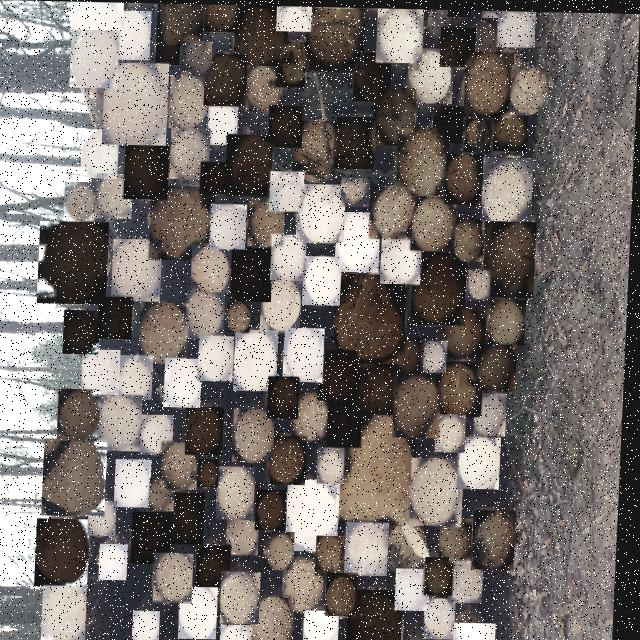wood-log: (342, 406, 422, 523), (336, 272, 410, 362), (39, 221, 111, 305), (103, 62, 170, 145), (46, 438, 112, 516), (151, 185, 218, 260), (413, 249, 470, 323), (485, 219, 539, 296), (290, 477, 345, 550), (306, 7, 366, 72), (40, 518, 95, 587), (414, 456, 468, 524), (398, 126, 451, 194), (234, 4, 289, 67), (464, 49, 515, 116), (484, 155, 535, 219), (114, 238, 165, 301), (396, 371, 445, 436), (142, 302, 192, 363), (298, 183, 348, 244), (226, 134, 275, 196), (352, 588, 409, 640), (70, 30, 120, 89), (337, 210, 383, 271), (237, 328, 282, 390), (408, 46, 455, 102), (477, 508, 521, 567), (376, 7, 424, 61), (441, 359, 487, 415), (101, 394, 146, 451), (374, 86, 418, 144), (47, 585, 93, 640), (125, 144, 171, 199), (294, 119, 340, 174), (413, 194, 458, 249), (349, 520, 394, 574), (287, 555, 331, 610), (371, 184, 416, 237), (461, 434, 505, 487), (233, 247, 276, 301), (236, 407, 279, 461), (286, 326, 328, 381), (204, 53, 248, 105), (61, 388, 104, 441), (170, 74, 211, 128), (359, 362, 402, 413), (263, 278, 305, 330), (225, 570, 266, 623), (336, 115, 377, 168), (220, 465, 260, 519), (447, 308, 490, 358), (135, 511, 176, 563), (171, 127, 212, 179), (382, 233, 424, 283), (511, 63, 553, 113), (184, 586, 224, 638), (321, 348, 361, 400), (447, 151, 487, 203), (171, 491, 210, 544), (158, 553, 199, 603), (157, 3, 204, 45), (188, 289, 228, 338), (305, 254, 344, 304), (272, 434, 311, 484), (167, 357, 206, 407), (113, 10, 152, 60), (256, 596, 300, 640), (193, 244, 234, 291), (84, 349, 124, 397), (82, 129, 121, 178), (295, 390, 334, 439), (354, 50, 392, 100), (480, 342, 520, 389), (164, 441, 203, 489), (190, 406, 229, 454), (118, 458, 156, 507), (250, 197, 287, 246), (96, 173, 135, 218), (491, 297, 529, 343), (211, 203, 249, 249), (247, 64, 284, 111), (272, 233, 309, 279), (331, 398, 366, 446), (66, 309, 103, 354), (201, 335, 237, 380), (203, 101, 240, 144), (122, 354, 157, 399), (70, 1, 124, 30), (453, 558, 489, 601), (100, 296, 136, 339), (452, 216, 487, 260), (269, 104, 305, 146), (401, 566, 436, 609), (444, 516, 477, 561), (201, 544, 236, 586), (477, 391, 511, 434), (440, 25, 476, 65), (231, 514, 265, 556), (276, 40, 307, 86), (331, 571, 363, 615), (497, 9, 536, 45), (271, 170, 306, 210), (271, 375, 303, 418), (494, 110, 529, 149), (145, 414, 178, 455), (65, 181, 98, 221), (429, 596, 461, 637), (260, 488, 292, 529), (268, 530, 300, 569), (439, 412, 470, 451), (320, 534, 350, 574), (433, 104, 465, 141), (309, 609, 345, 640), (182, 40, 213, 76), (395, 335, 424, 373), (430, 555, 459, 593), (104, 543, 133, 580), (92, 500, 122, 535), (321, 446, 349, 483), (205, 4, 242, 31), (201, 161, 231, 193), (466, 116, 492, 151), (276, 5, 312, 30), (342, 176, 372, 206), (459, 620, 502, 640), (153, 477, 179, 510), (138, 610, 166, 640), (156, 33, 181, 64), (426, 339, 450, 371), (230, 301, 254, 332), (470, 267, 493, 298), (201, 458, 223, 486), (226, 623, 258, 640), (448, 8, 471, 15), (482, 8, 502, 16), (407, 639, 438, 640), (424, 640, 448, 640)
